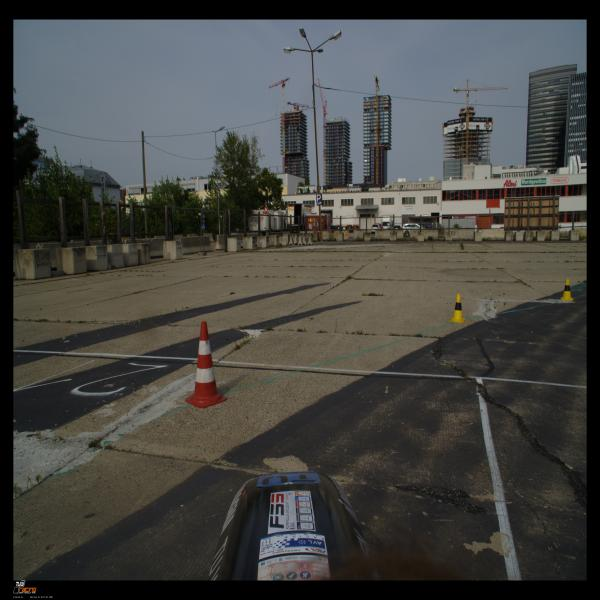large_orange_cone: (185, 321, 227, 408)
yellow_cone: (449, 293, 467, 323), (560, 278, 574, 301)
